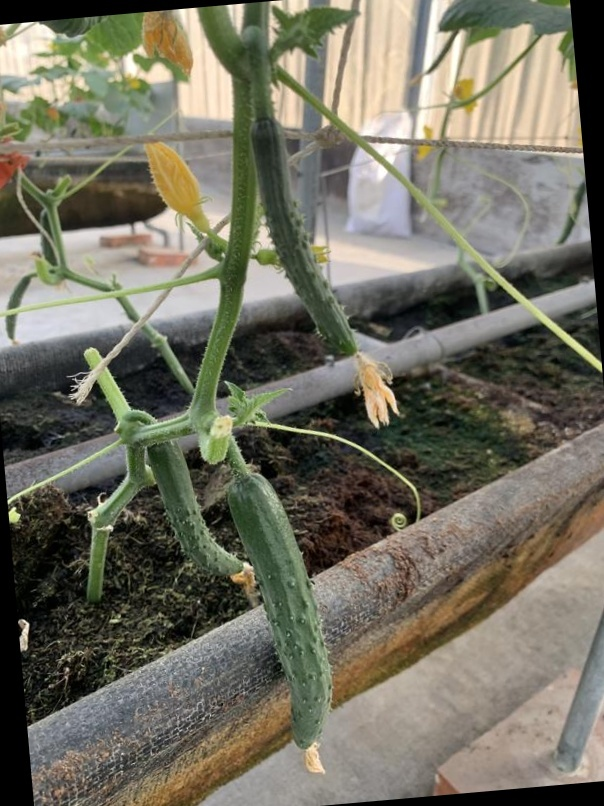bud: (144, 135, 208, 225)
growth: (251, 109, 375, 384), (143, 434, 249, 579)
mature: (229, 470, 337, 752)
